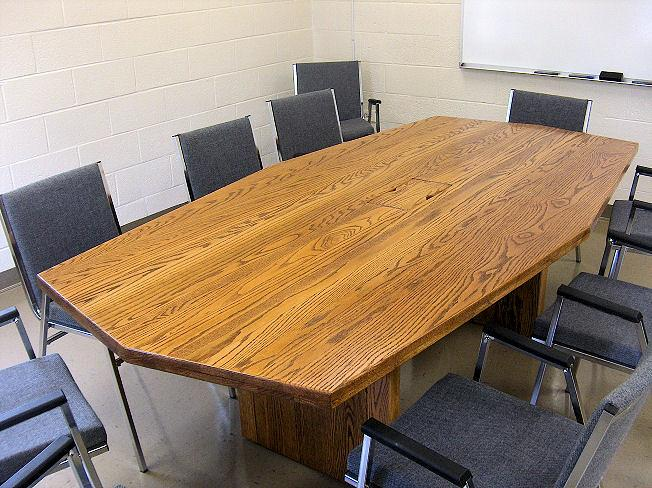table: (35, 114, 641, 484)
